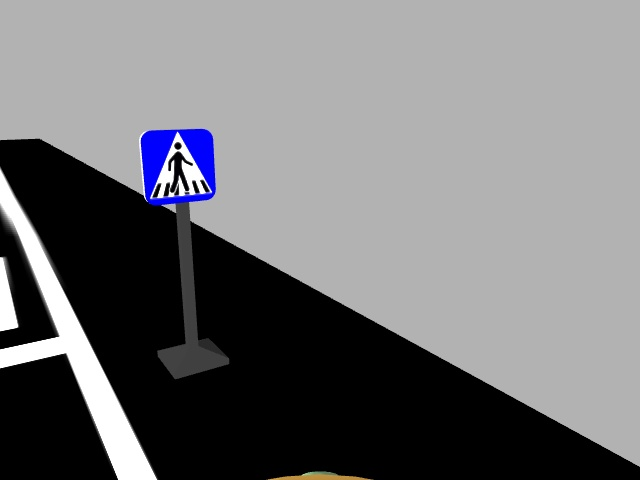Crosswalk: (136, 127, 216, 202)
